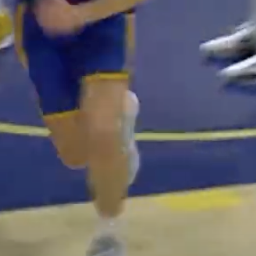block: (156, 187, 241, 208)
